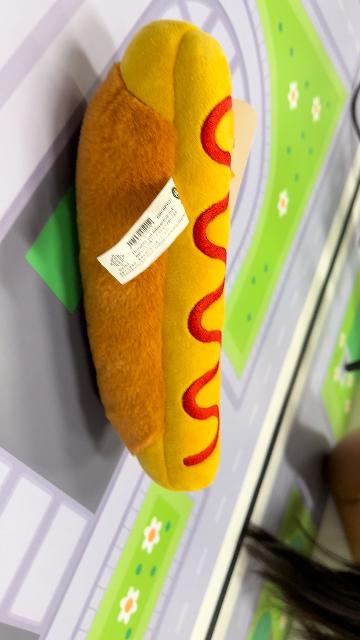hotdog: (74, 19, 238, 494)
